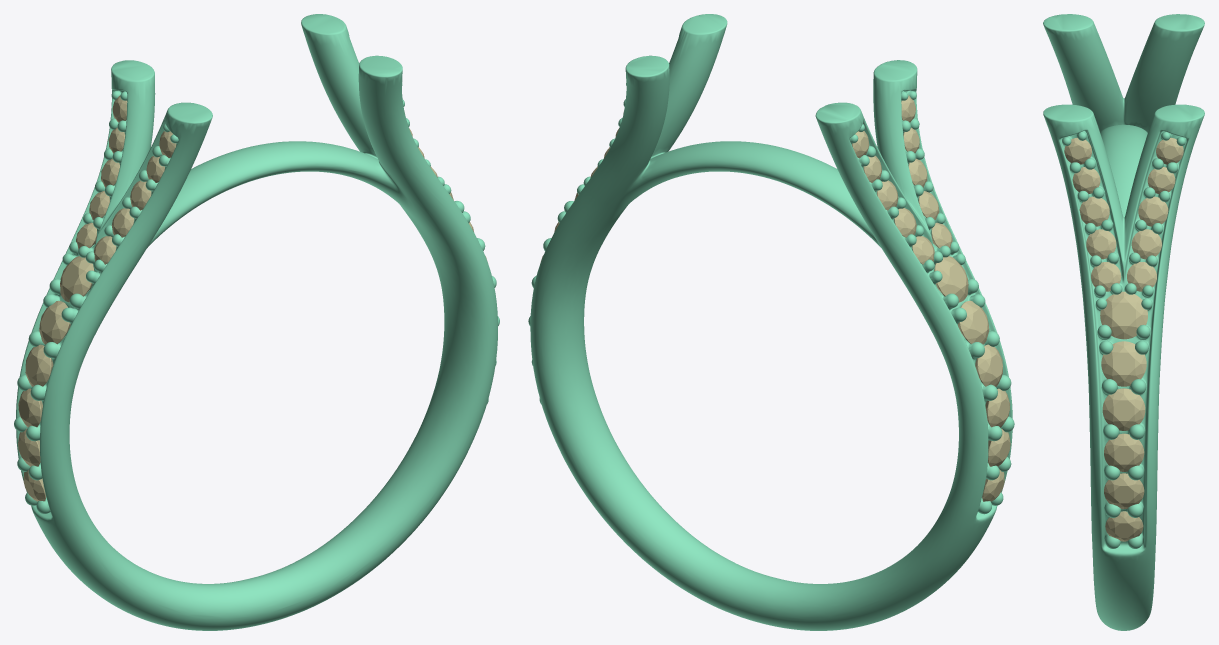
3 views of the same model, side by side, from view 1: azimuth 30°, elevation 25°; view 2: azimuth 150°, elevation 25°; view 3: azimuth 270°, elevation 25° (orthographic). The views are drawn at different scales.
Parts seen in each view (by area): view 1: Metal02, Diamond_Gem.011, Diamond_Gem.012, Diamond_Gem.010, Diamond_Gem.013; view 2: Metal02, Diamond_Gem.011, Diamond_Gem.012, Diamond_Gem.010, Diamond_Gem.013; view 3: Metal02, Diamond_Gem.020, Diamond_Gem.019, Diamond_Gem.021, Diamond_Gem.018, Diamond_Gem.017, Diamond_Gem.022, Diamond_Gem.027, Diamond_Gem.028, Diamond_Gem.029, Diamond_Gem.026, Diamond_Gem.030 (+5 smaller).
Boxes of the visible parts, x1=… form: Metal02: x1=14, y1=14, x2=499, y2=630; Diamond_Gem.011: x1=60, y1=256, x2=94, y2=302; Diamond_Gem.012: x1=39, y1=300, x2=70, y2=344; Diamond_Gem.010: x1=25, y1=344, x2=53, y2=386; Diamond_Gem.013: x1=18, y1=388, x2=42, y2=427; Metal02: x1=528, y1=14, x2=1014, y2=630; Diamond_Gem.011: x1=934, y1=256, x2=968, y2=302; Diamond_Gem.012: x1=958, y1=300, x2=989, y2=344; Diamond_Gem.010: x1=975, y1=344, x2=1002, y2=386; Diamond_Gem.013: x1=985, y1=388, x2=1010, y2=427; Metal02: x1=1043, y1=14, x2=1204, y2=630; Diamond_Gem.020: x1=1100, y1=291, x2=1147, y2=339; Diamond_Gem.019: x1=1101, y1=341, x2=1146, y2=386; Diamond_Gem.021: x1=1102, y1=388, x2=1145, y2=430; Diamond_Gem.018: x1=1104, y1=433, x2=1144, y2=471; Diamond_Gem.017: x1=1104, y1=473, x2=1144, y2=509; Diamond_Gem.022: x1=1105, y1=511, x2=1143, y2=541; Diamond_Gem.027: x1=1086, y1=229, x2=1116, y2=259; Diamond_Gem.028: x1=1131, y1=229, x2=1161, y2=259; Diamond_Gem.029: x1=1138, y1=196, x2=1168, y2=226; Diamond_Gem.026: x1=1079, y1=196, x2=1109, y2=226; Diamond_Gem.030: x1=1127, y1=262, x2=1156, y2=291.
Size of the model in its own units: 21.02 by 23.59 by 6.42.
